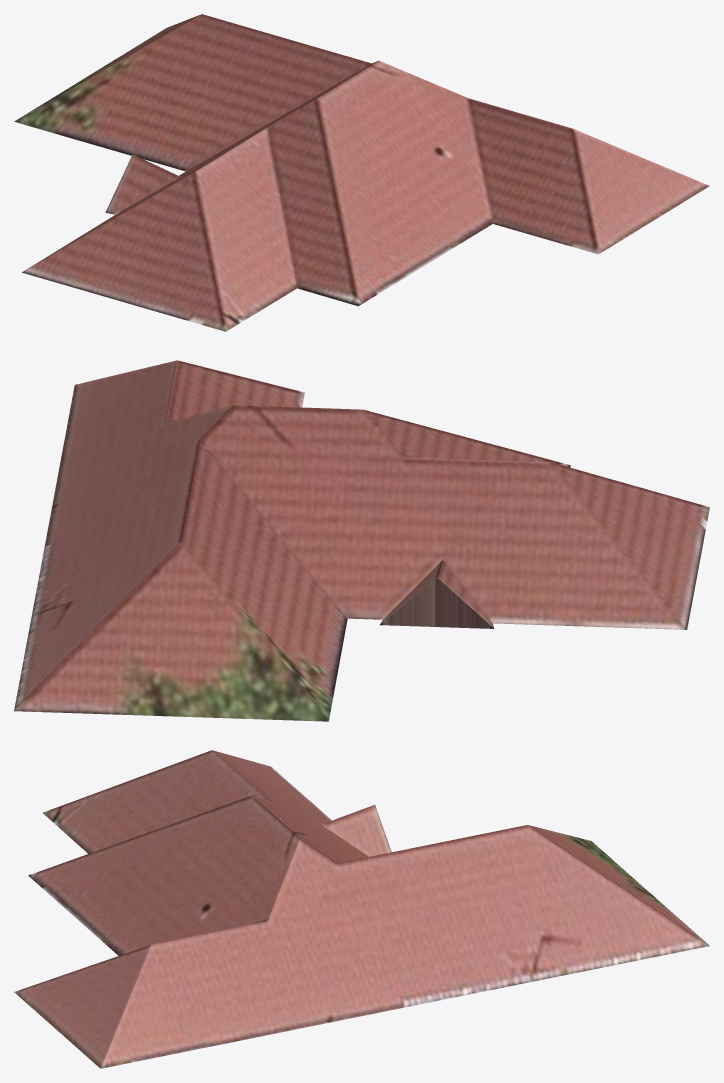
Rendered from BK39_500_013029_0018_roof.obj.
3 renders of one model, top to bottom at view 1: azimuth 30°, elevation 25°; view 2: azimuth 150°, elevation 25°; view 3: azimuth 270°, elevation 25°, orthographic. The views are drawn at different scales.
Parts seen in each view (by area): view 1: BK39_500_013029_0018_roof; view 2: BK39_500_013029_0018_roof; view 3: BK39_500_013029_0018_roof.
Boxes of the visible parts, <box> form: BK39_500_013029_0018_roof: <box>14,14,709,331</box>; BK39_500_013029_0018_roof: <box>14,360,709,721</box>; BK39_500_013029_0018_roof: <box>14,750,709,1068</box>.
Size of the model in its own units: 399 by 70 by 389.
1 material, 1 textured.
